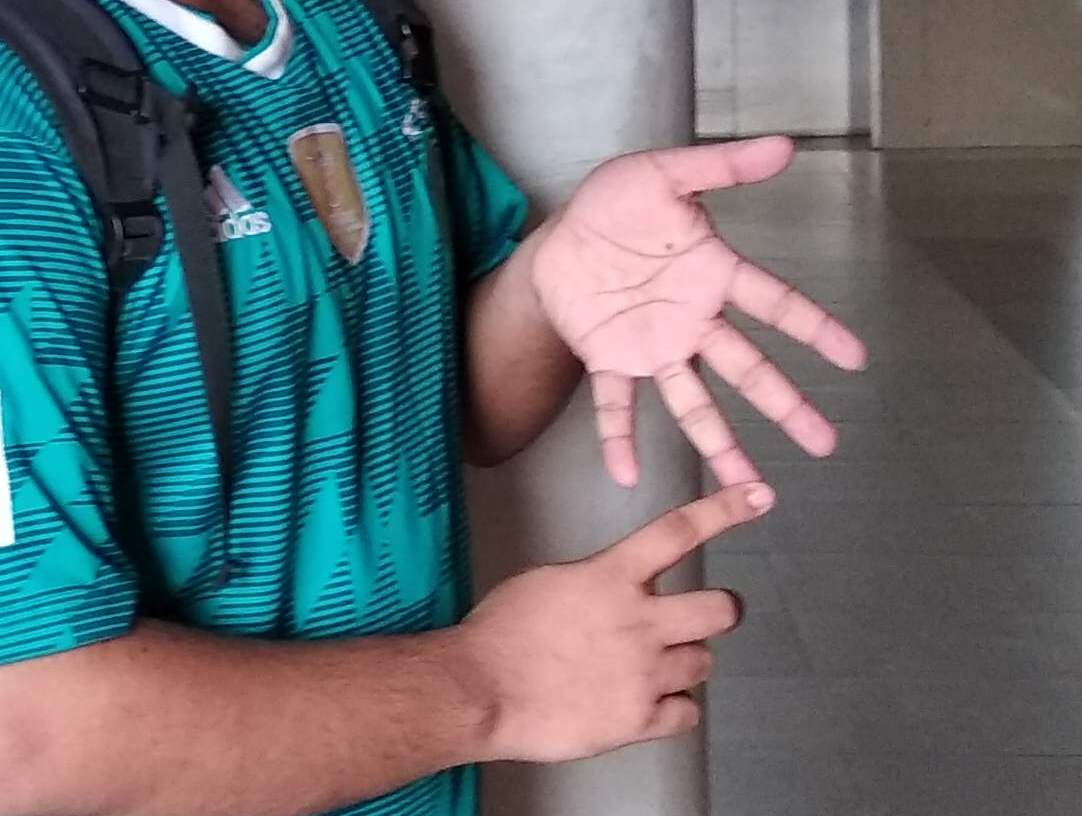e: (524, 194, 860, 642)
